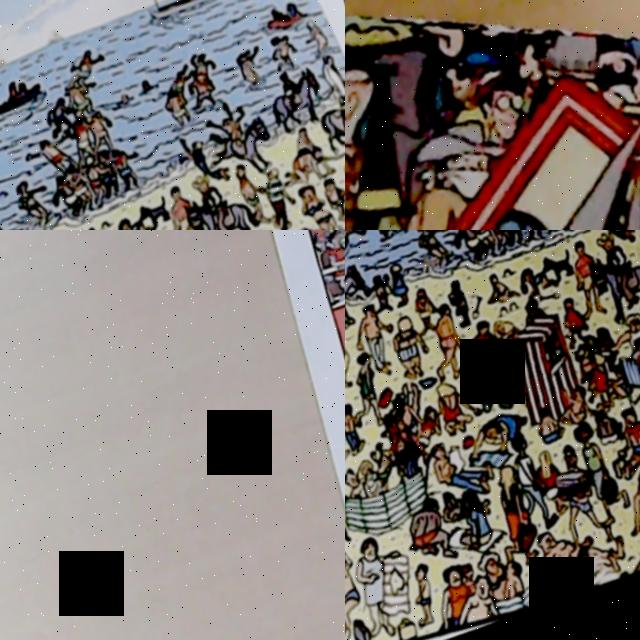waldo: (464, 57, 544, 168), (388, 415, 411, 449)
